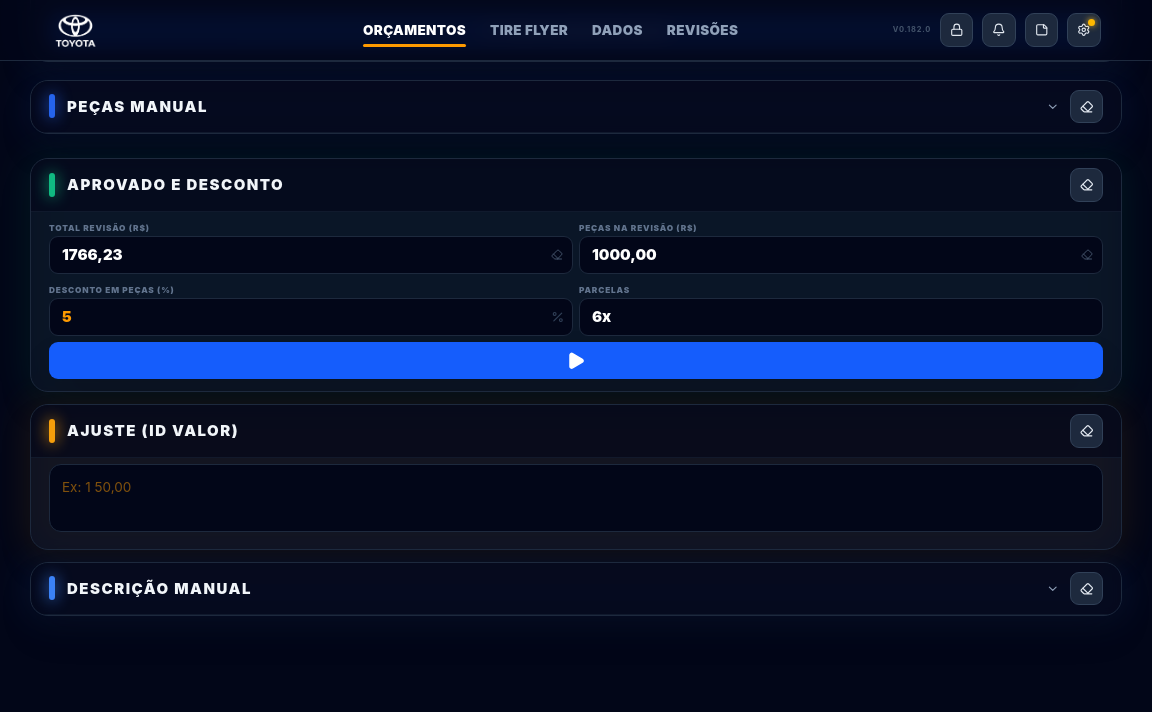
App — smoke test (render + processar) › caixinhas: desmarcar um item recalcula os totais
(page scrolled)
Click the button named "Processar Tudo". click: (576, 360)
box: [49, 342, 1103, 379]
(page scrolled)
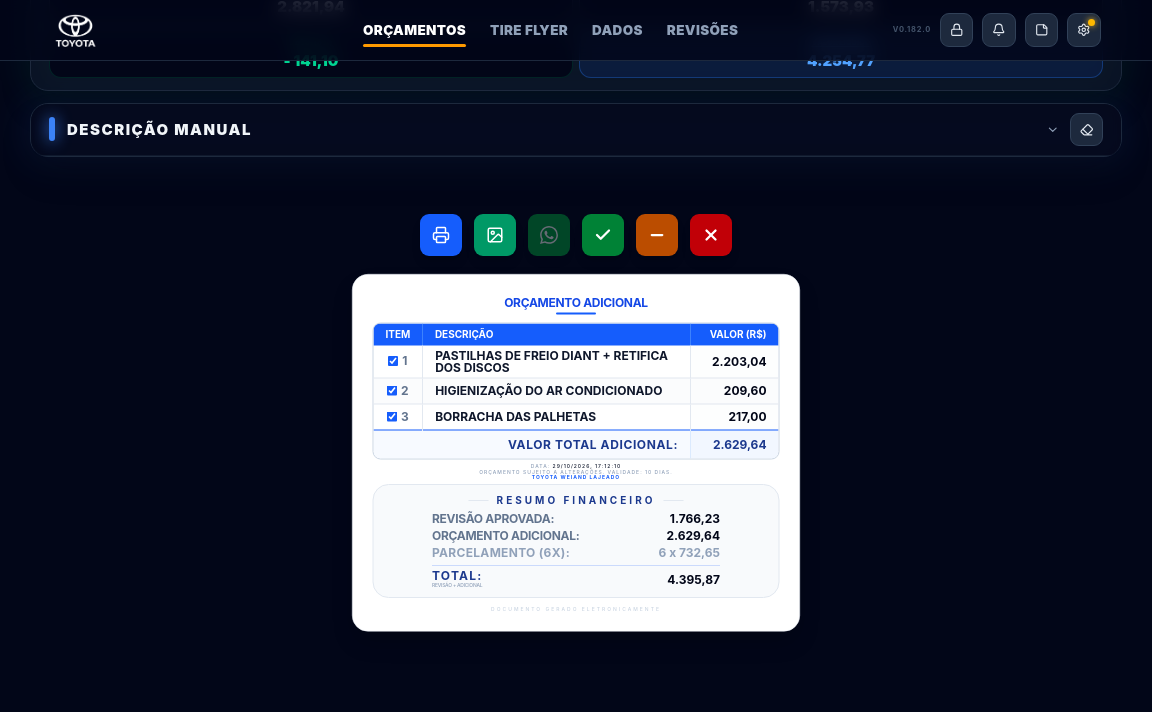
Check: the text "Itens Não Aprovados" is not shown
Check: the number of checkboxes is 3
Click the checkbox named "Incluir este item no orçamento" in the row of "2.203,04". click: (393, 360)
box: [388, 356, 398, 366]
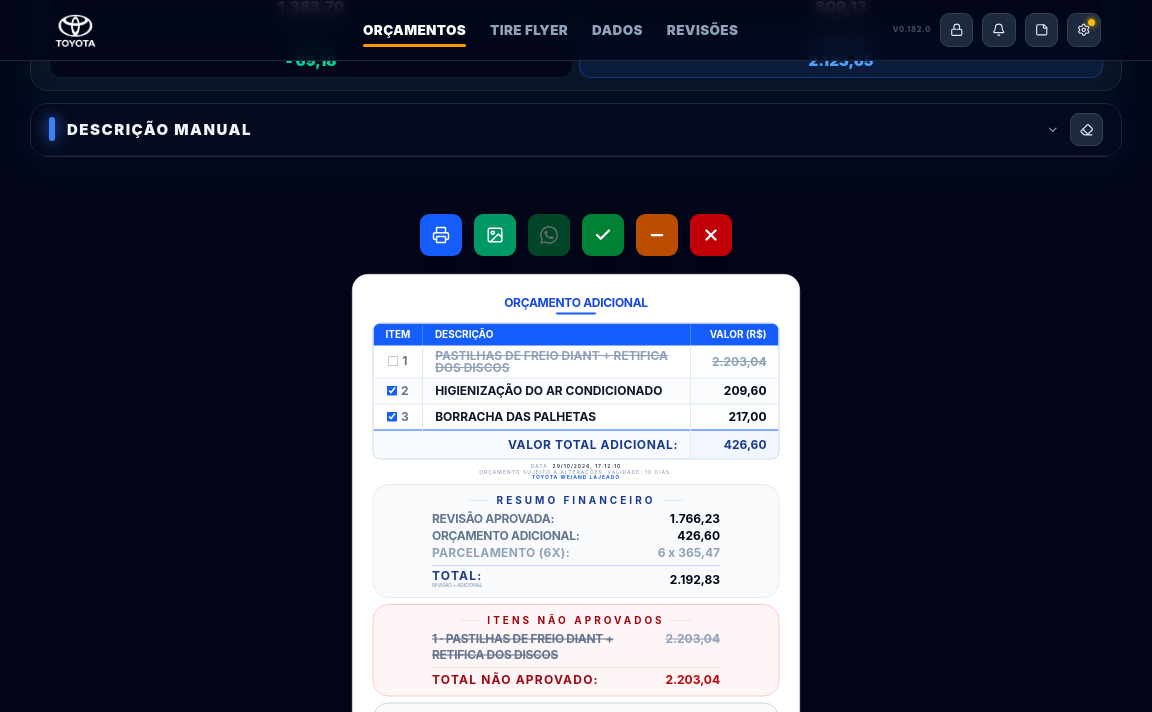
Check: the text "2.203,04" is shown, box [690, 345, 778, 378]
Check: the heading "Itens Não Aprovados" is shown, box [487, 612, 665, 626]
# remarca: a caixa some de novo
Click the 1st checkbox named "Incluir este item no orçamento". click: (393, 360)
box: [388, 356, 398, 366]
(page scrolled)
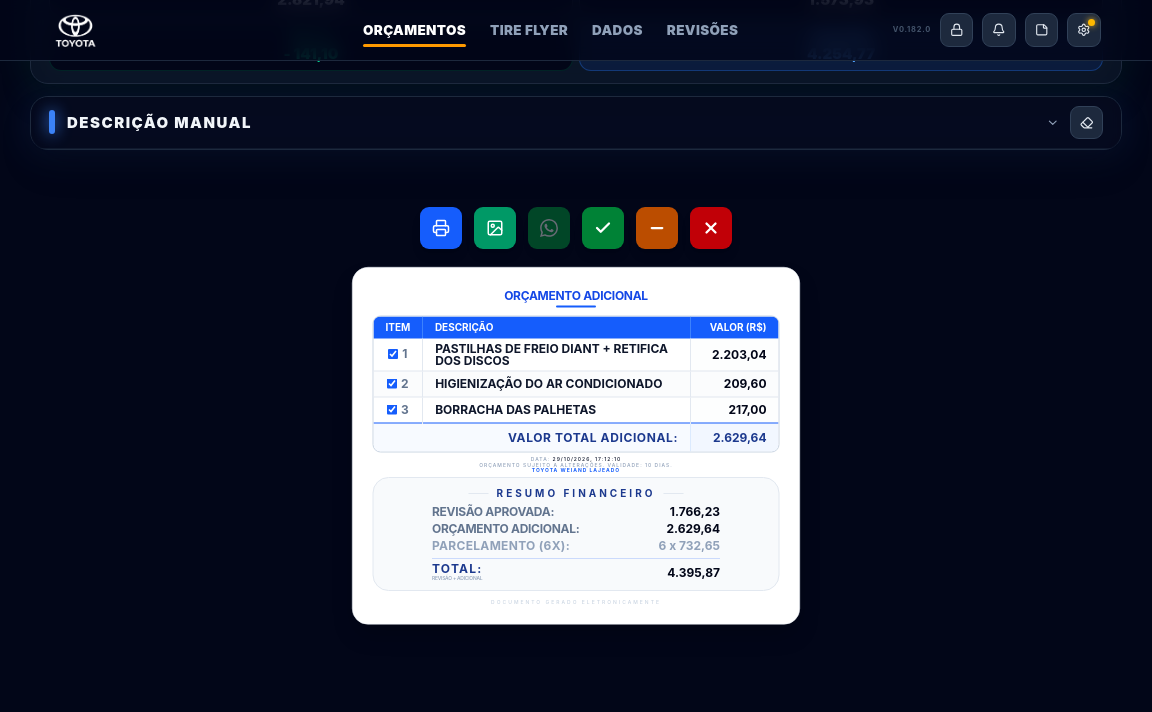
Check: the heading "Itens Não Aprovados" is gone
